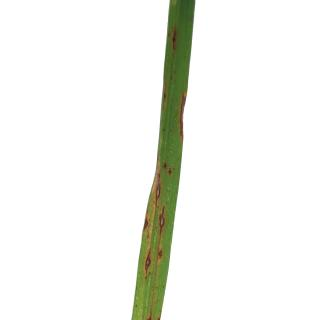Blast: (179, 88, 186, 143), (152, 177, 165, 204), (170, 22, 180, 56), (144, 244, 152, 282), (163, 158, 174, 178), (160, 208, 166, 234), (158, 245, 166, 261)
